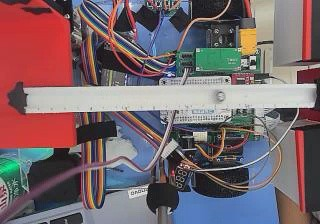ironball: (215, 90, 225, 102)
